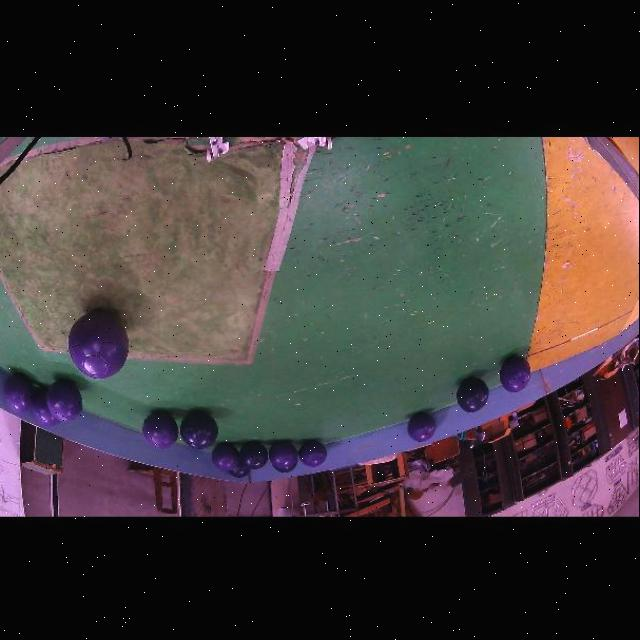B: (181, 412, 218, 450), (457, 378, 490, 413), (240, 443, 269, 470), (230, 464, 251, 478)
P: (69, 312, 129, 379), (46, 380, 83, 423), (143, 412, 180, 450), (500, 357, 532, 394), (4, 374, 34, 413), (33, 390, 59, 428), (408, 413, 437, 443), (269, 443, 298, 470), (298, 441, 327, 468), (213, 444, 240, 472)
